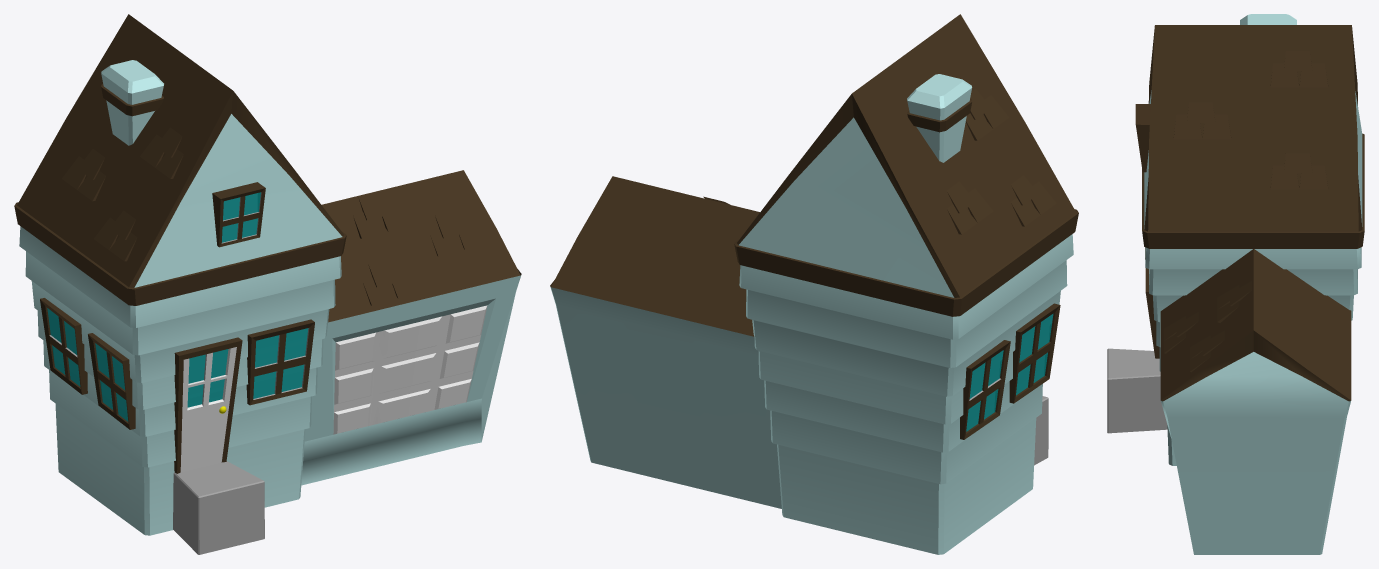
File: HouseTwo.fbx
3 renders of one model, left to right at view 1: azimuth 30°, elevation 25°; view 2: azimuth 150°, elevation 25°; view 3: azimuth 270°, elevation 25°, orthographic. The views are drawn at different scales.
Visible parts, largest first — view 1: pCube1, pCube7, pCube2, pCube21, pCube3, pCube8, pCube5, pCube6, pCube22, pCube20, pCube19, pCube18 (+3 smaller); view 2: pCube1, pCube7, pCube8, pCube5, pCube6, pCube12, pCube14, pCube13, pCube21; view 3: pCube1, pCube7, pCube21, pCube15, pCube17, pCube16, pCube22, pCube20, pCube19, pCube18, pCube8, pCube3.
Boxes of the visible parts, x1,y1,x2,y2 form: pCube1: (14,14,346,535); pCube7: (301,170,521,485); pCube2: (174,337,242,473); pCube21: (173,461,264,554); pCube3: (246,319,314,405); pCube8: (101,60,163,145); pCube5: (88,333,135,429); pCube6: (40,298,87,394); pCube22: (212,182,265,247); pCube20: (352,191,414,238); pCube19: (362,258,424,305); pCube18: (430,209,491,256); pCube1: (734,14,1078,554); pCube7: (550,176,781,508); pCube8: (907,74,972,162); pCube5: (1009,303,1060,403); pCube6: (960,340,1010,439); pCube12: (947,181,993,234); pCube14: (1010,175,1056,226); pCube13: (965,89,1008,140); pCube21: (1034,396,1048,465); pCube1: (1142,25,1364,465); pCube7: (1160,249,1351,554); pCube21: (1107,348,1167,433); pCube15: (1173,102,1231,139); pCube17: (1270,153,1328,189); pCube16: (1270,51,1328,87); pCube22: (1135,104,1150,172); pCube20: (1217,281,1251,322); pCube19: (1164,312,1198,353); pCube18: (1190,330,1224,372); pCube8: (1240,14,1296,24); pCube3: (1145,268,1159,358).
Bounding box in the file's own units: 1.85 × 1.9 × 1.09.
